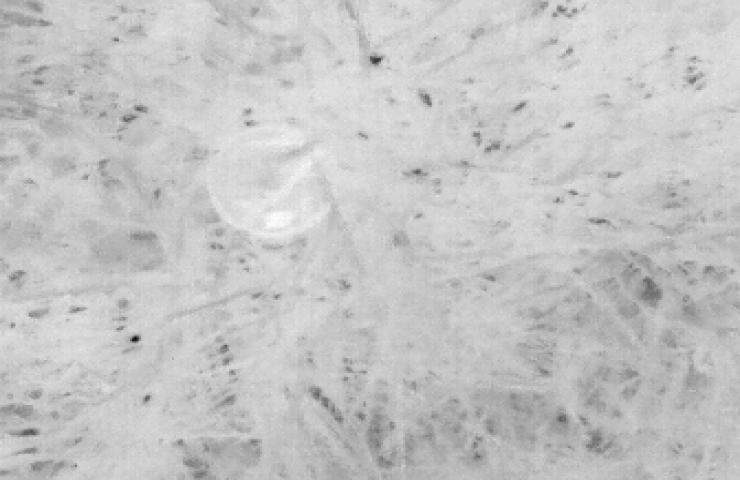landmines: (200, 114, 350, 250)
